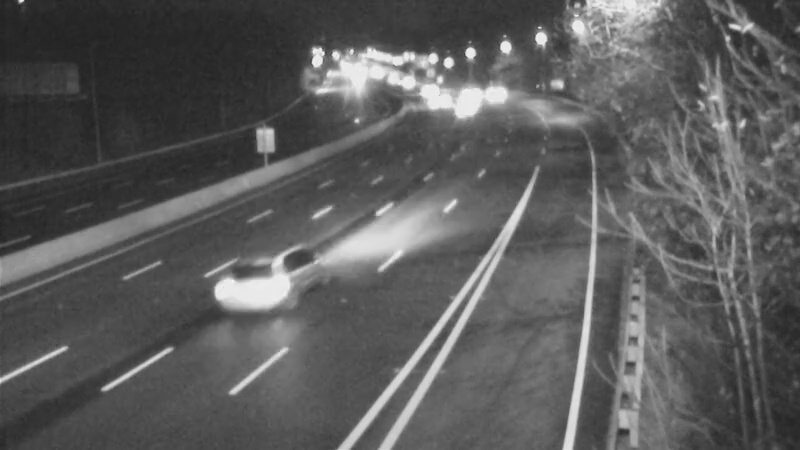vehicle: (215, 240, 295, 320), (366, 53, 416, 103), (398, 67, 448, 117), (471, 69, 521, 119), (417, 75, 467, 125), (439, 83, 489, 133)
